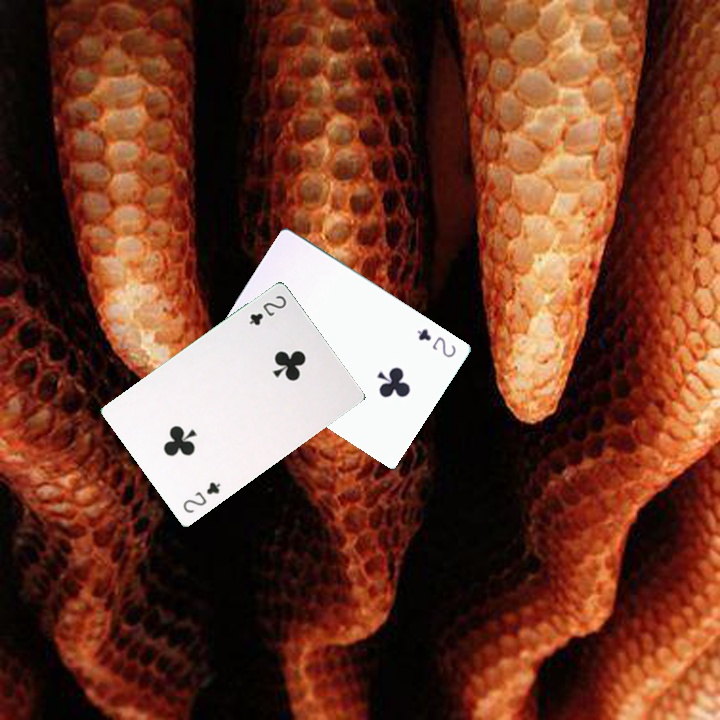2c: (179, 478, 223, 516), (245, 291, 289, 328), (413, 325, 459, 360)
